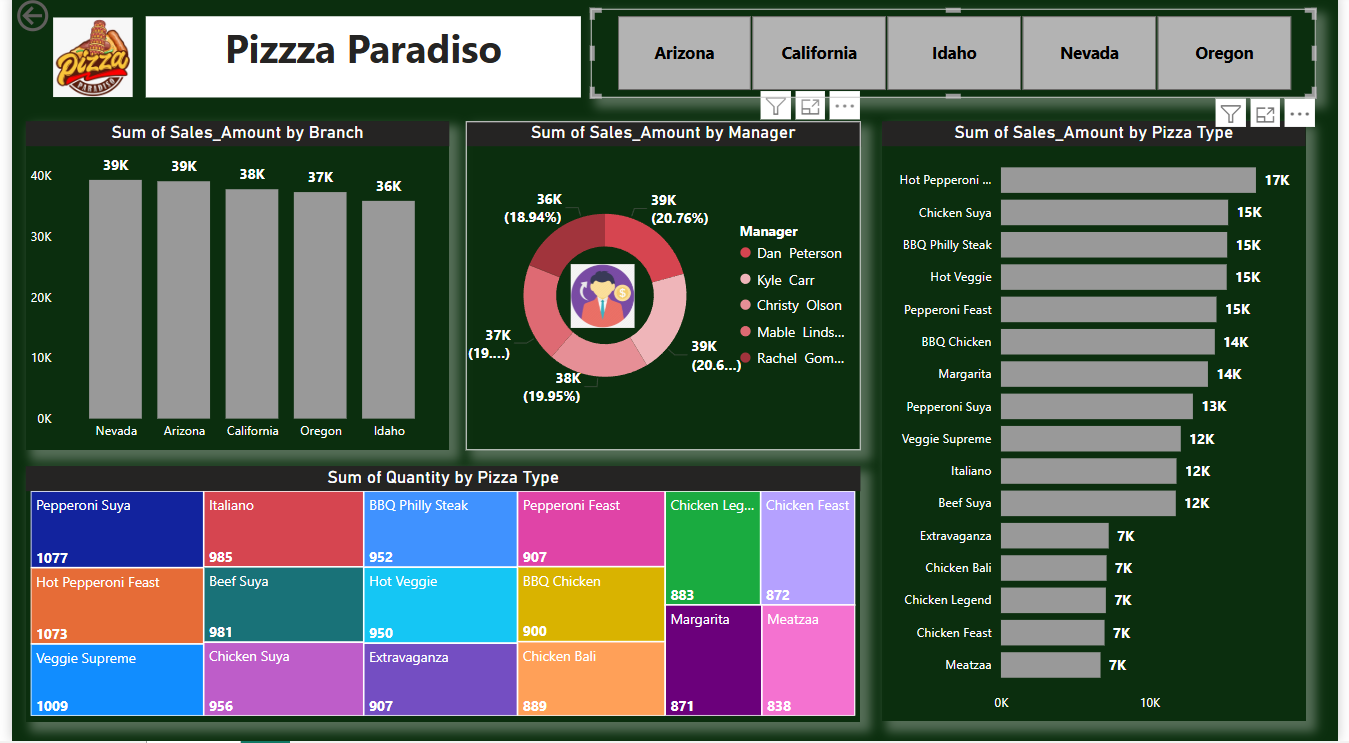

The dashboard page shown, as its layout file describes it:
{"tool":"powerbi","page":{"name":"Page 1","canvas":[1280,720],"ordinal":0},"visuals":[{"type":"clusteredColumnChart","fields":{"Category":["PIzza Paradiso.Branch"],"Y":["PIzza Paradiso.Sales_Amount"]},"box":[13.3,121.9,409,317.3],"z":0},{"type":"clusteredBarChart","fields":{"Category":["PIzza Paradiso.Pizza Type","PIzza Paradiso.Sales_Amount"],"Y":["PIzza Paradiso.Sales_Amount"]},"box":[839.7,121.9,409,579.1],"z":1000},{"type":"donutChart","fields":{"Category":["PIzza Paradiso.Manager"],"Y":["PIzza Paradiso.Sales_Amount"]},"box":[437.9,121.9,381.2,317.3],"z":2000},{"type":"image","box":[13.3,16.9,129.1,86.9],"z":3000},{"type":"image","box":[534.5,248.5,71.2,84.5],"z":4000},{"type":"treemap","fields":{"Group":["PIzza Paradiso.Pizza Type"],"Values":["PIzza Paradiso.Quantity"]},"box":[13.3,454.8,805.9,246.1],"z":5000},{"type":"slicer","fields":{"Values":["PIzza Paradiso.Branch"]},"box":[558.6,13.3,699.7,85.7],"z":6000},{"type":"actionButton","box":[0,0,100,40],"z":7000},{"type":"textbox","box":[129.1,20.5,419.8,78.4],"z":8000}]}

Visuals, with their boxes in screenshot pixels (x1, y1, x2, y2), scaled from the page's 1280x720 canvas onto the 1349x743 screenshot:
clusteredColumnChart - PIzza Paradiso.Branch x PIzza Paradiso.Sales_Amount: (x1=14, y1=126, x2=445, y2=453)
clusteredBarChart - PIzza Paradiso.Pizza Type x PIzza Paradiso.Sales_Amount: (x1=885, y1=126, x2=1316, y2=723)
donutChart - PIzza Paradiso.Manager x PIzza Paradiso.Sales_Amount: (x1=462, y1=126, x2=863, y2=453)
image: (x1=14, y1=17, x2=150, y2=107)
image: (x1=563, y1=256, x2=638, y2=344)
treemap - PIzza Paradiso.Pizza Type x PIzza Paradiso.Quantity: (x1=14, y1=469, x2=863, y2=723)
slicer - PIzza Paradiso.Branch: (x1=589, y1=14, x2=1326, y2=102)
actionButton: (x1=0, y1=0, x2=105, y2=41)
textbox: (x1=136, y1=21, x2=578, y2=102)
